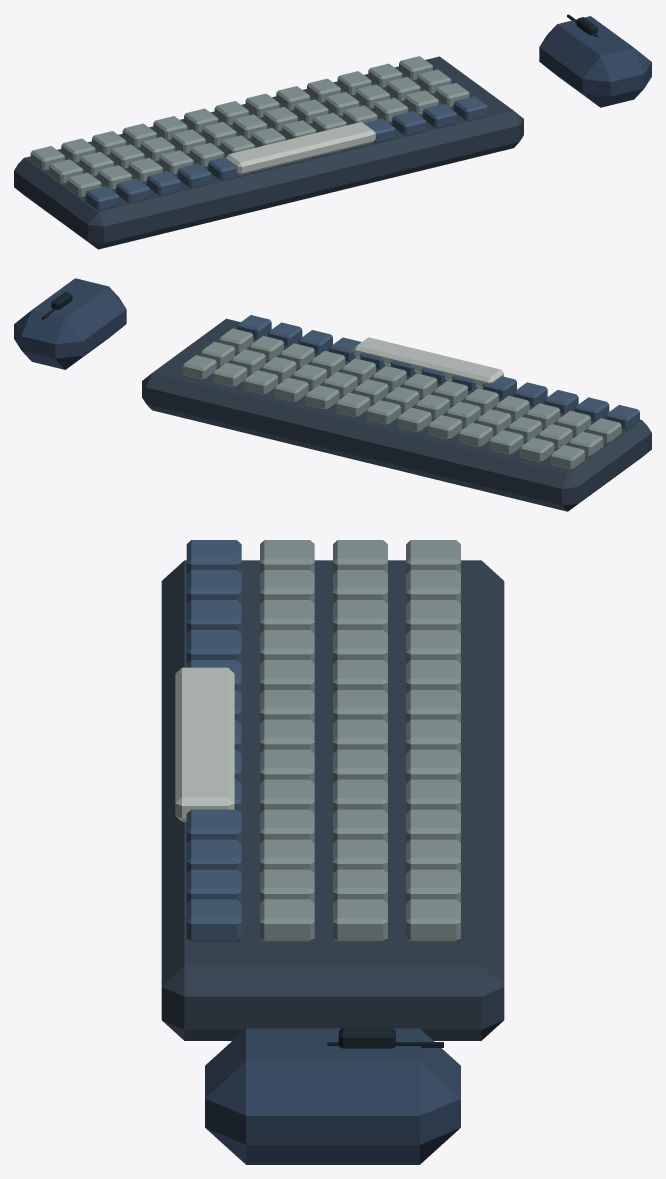
Rendered from keyboard_mouse.glb.
The picture shows the model from 3 angles, top to bottom: view 1: azimuth 30°, elevation 25°; view 2: azimuth 150°, elevation 25°; view 3: azimuth 270°, elevation 25°; orthographic projection. The views are drawn at different scales.
Parts seen in each view (by area): view 1: keyboard_mouse__metal, keyboard_mouse__metal_light, keyboard_mouse__navy, keyboard_mouse__navy_light, keyboard_mouse__steel; view 2: keyboard_mouse__metal, keyboard_mouse__metal_light, keyboard_mouse__navy, keyboard_mouse__navy_light, keyboard_mouse__steel; view 3: keyboard_mouse__metal, keyboard_mouse__metal_light, keyboard_mouse__navy, keyboard_mouse__navy_light, keyboard_mouse__steel, keyboard_mouse__black.
Boxes of the visible parts, bbox=[...] form: keyboard_mouse__metal: bbox=[14, 56, 523, 249]; keyboard_mouse__metal_light: bbox=[30, 56, 469, 197]; keyboard_mouse__navy: bbox=[539, 16, 651, 107]; keyboard_mouse__navy_light: bbox=[85, 96, 487, 210]; keyboard_mouse__steel: bbox=[226, 122, 375, 174]; keyboard_mouse__metal: bbox=[142, 318, 651, 511]; keyboard_mouse__metal_light: bbox=[182, 328, 621, 469]; keyboard_mouse__navy: bbox=[14, 278, 126, 369]; keyboard_mouse__navy_light: bbox=[237, 315, 639, 429]; keyboard_mouse__steel: bbox=[354, 337, 503, 388]; keyboard_mouse__metal: bbox=[161, 560, 504, 1040]; keyboard_mouse__metal_light: bbox=[260, 540, 460, 941]; keyboard_mouse__navy: bbox=[205, 1028, 460, 1164]; keyboard_mouse__navy_light: bbox=[186, 540, 241, 941]; keyboard_mouse__steel: bbox=[175, 667, 234, 821]; keyboard_mouse__black: bbox=[327, 1027, 443, 1048].
Bounding box in the file's own units: 0.585 × 0.0615 × 0.15.
